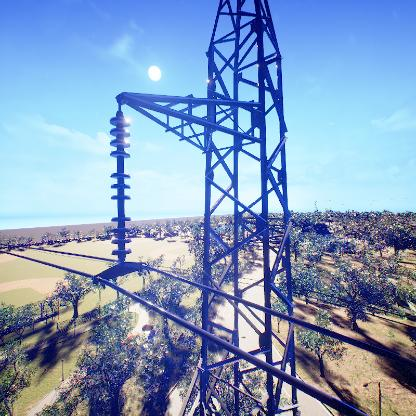insulator: (101, 110, 138, 261)
